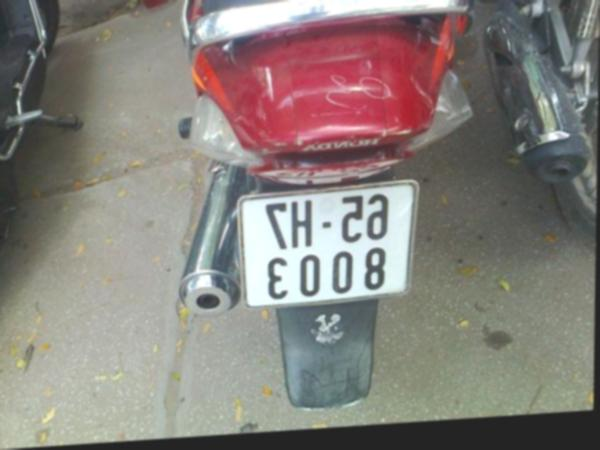License_Plate: (236, 179, 418, 309)
